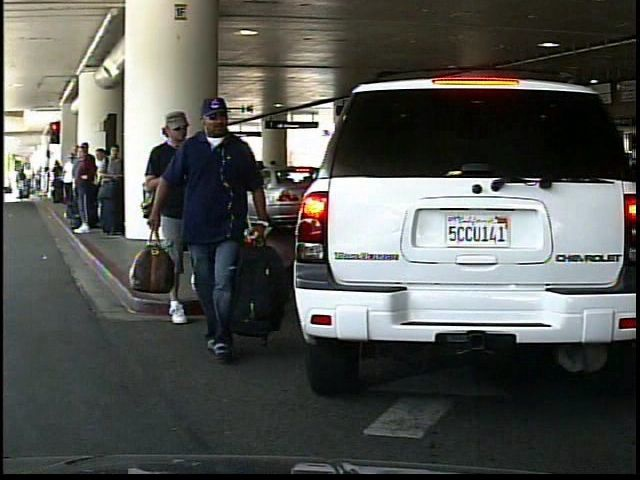person: (160, 93, 292, 364), (142, 103, 219, 303), (181, 134, 230, 256)
